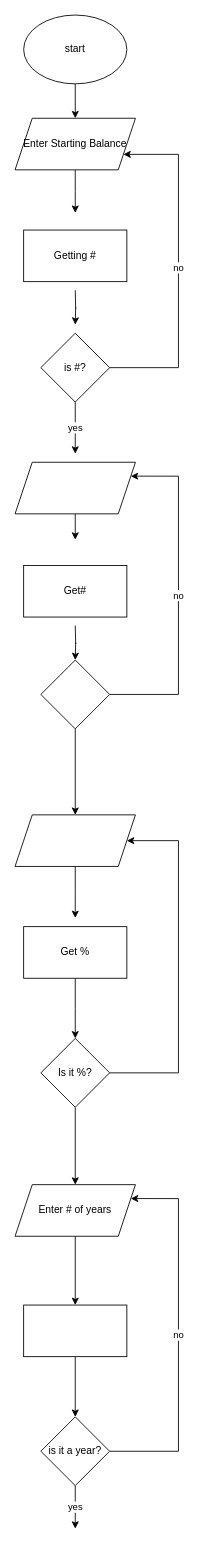
Some shapes in this 200 by 1551 pixel diagram are drawn without their labels. The shapes that lost their labels are listed below. From the top down, each one's centre as x and y in pixels, then its label:
point (74, 487): Enter Yearly Contribution
point (75, 694): is it #?
point (74, 840): Enter average Return on Investment as %
point (75, 1330): Get # of years
